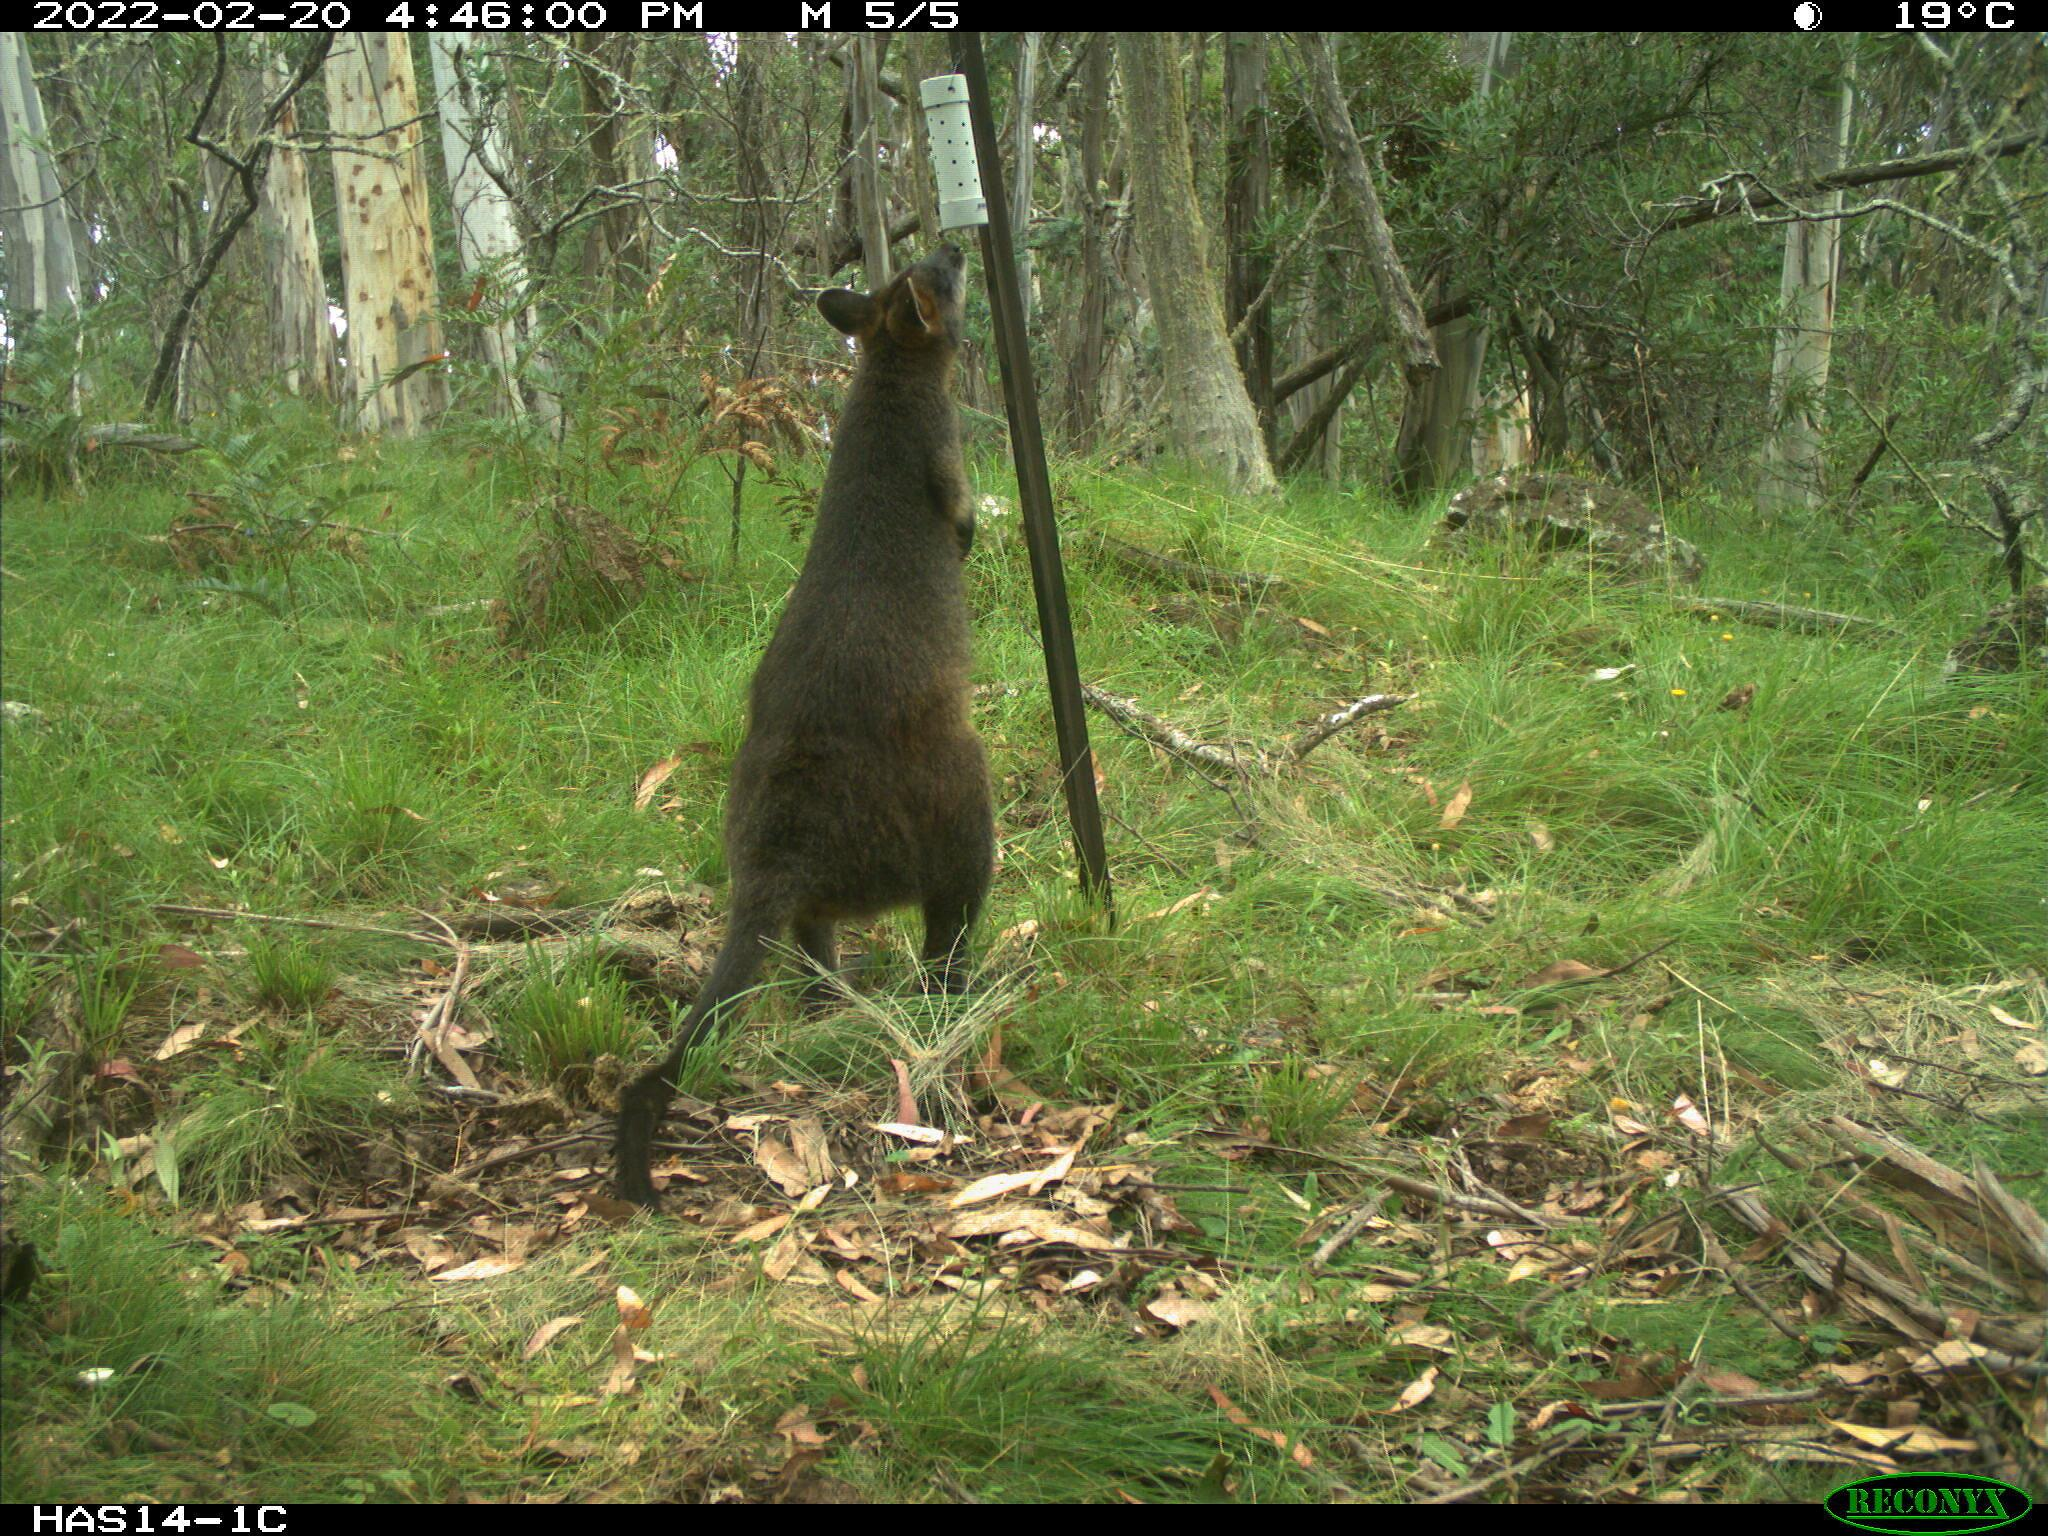Swamp wallaby: (608, 234, 1013, 1241)
